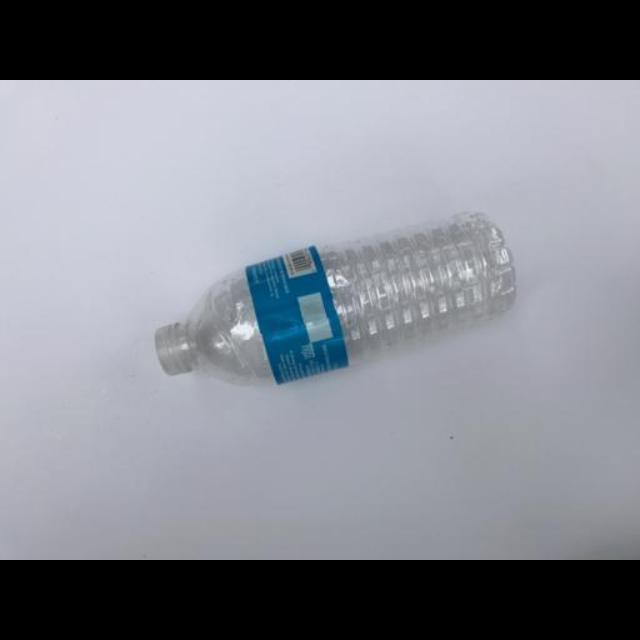garrafa plástica: (184, 210, 520, 386)
tampa plástica: (155, 320, 199, 376)
